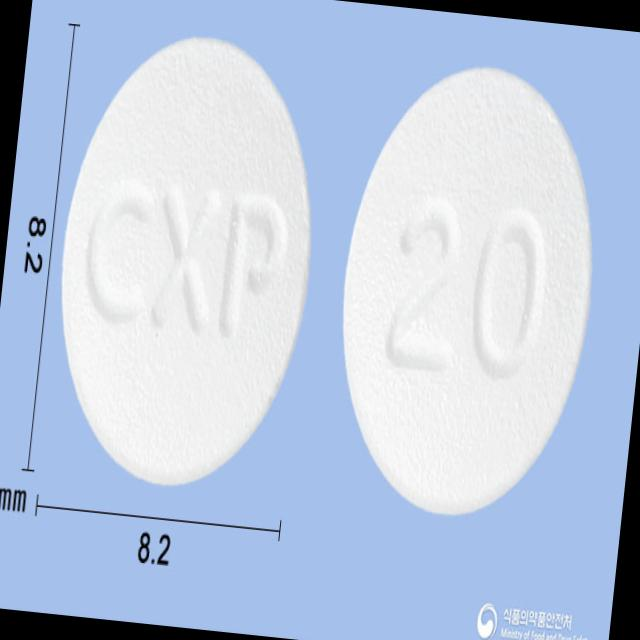Levotwo: (38, 19, 333, 499), (321, 56, 613, 527)
